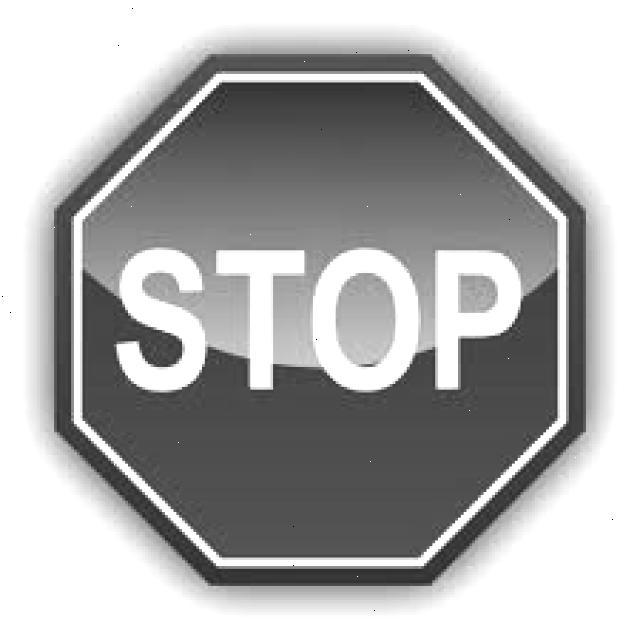stop sign: (62, 54, 588, 589)
